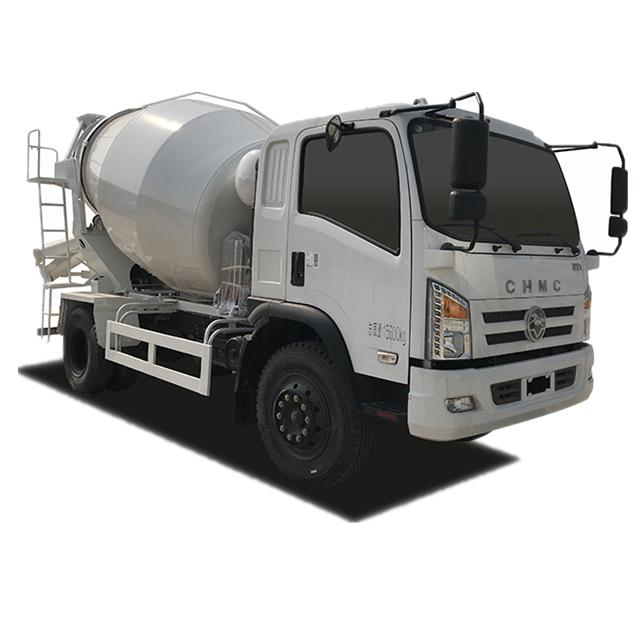Mixer Truck: (26, 98, 593, 489)
